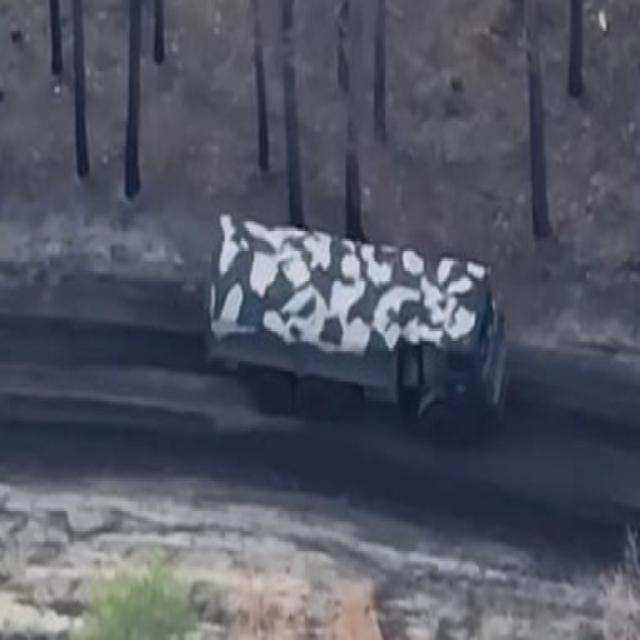TRUCK: (207, 202, 508, 441)
